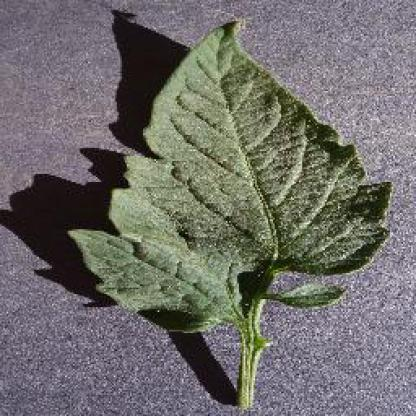bad leaf: (80, 5, 388, 414)
